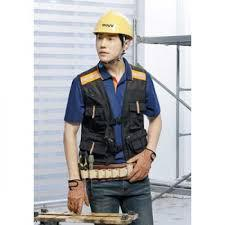helmet: (92, 9, 134, 37)
